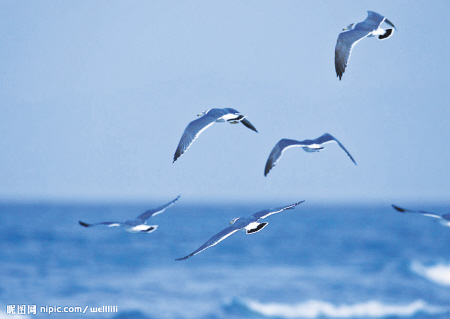bird: (177, 198, 305, 264), (77, 194, 182, 241), (171, 107, 259, 163), (332, 8, 398, 78), (260, 134, 357, 180)
